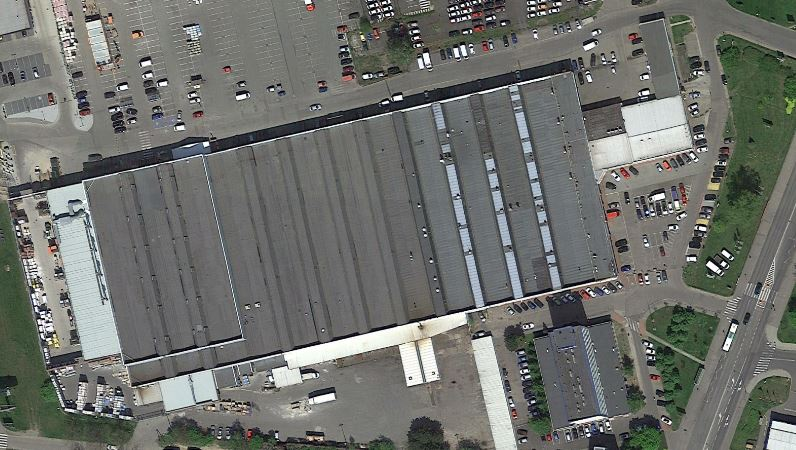block of flats: (535, 316, 636, 439)
shopping_center: (65, 54, 630, 426)
